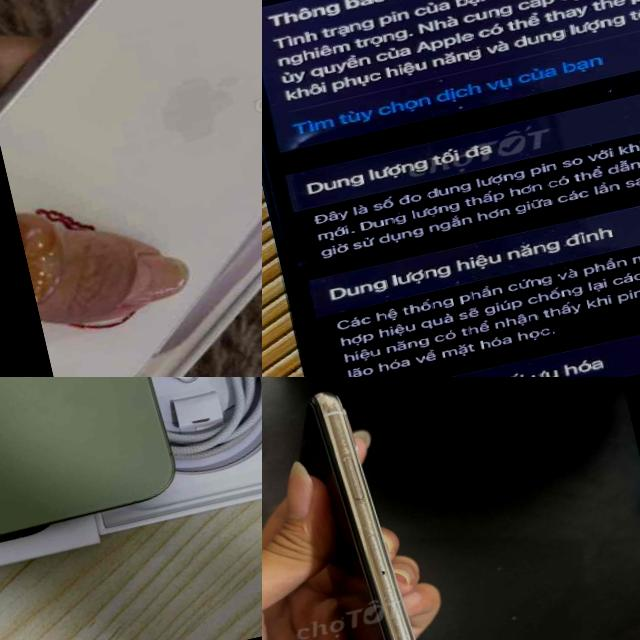scratch: (313, 391, 446, 640)
